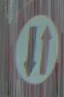Two way: (11, 8, 57, 86)
